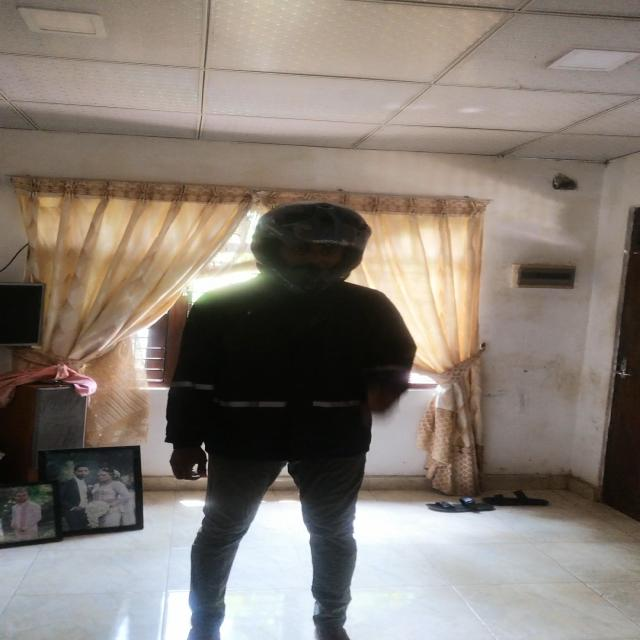Helmet_Wearer: (238, 200, 375, 299)
Jacket_Wearer: (167, 276, 418, 482)
Person: (163, 199, 403, 640)
